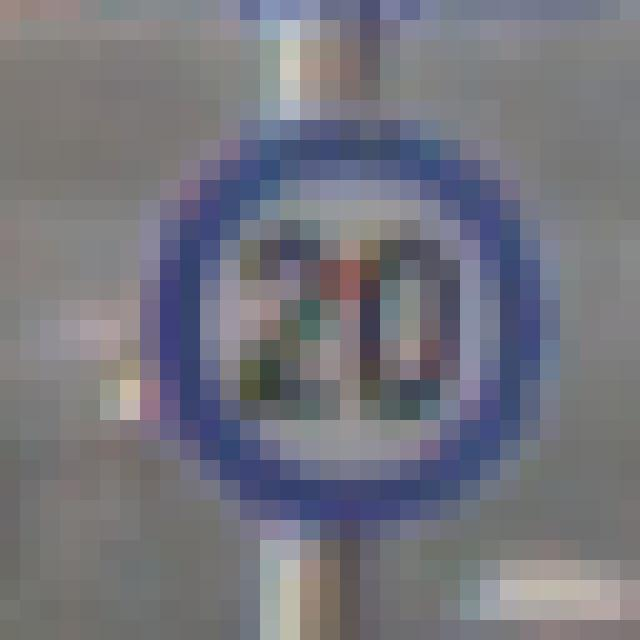SPEED LIMIT 20: (155, 137, 557, 518)
